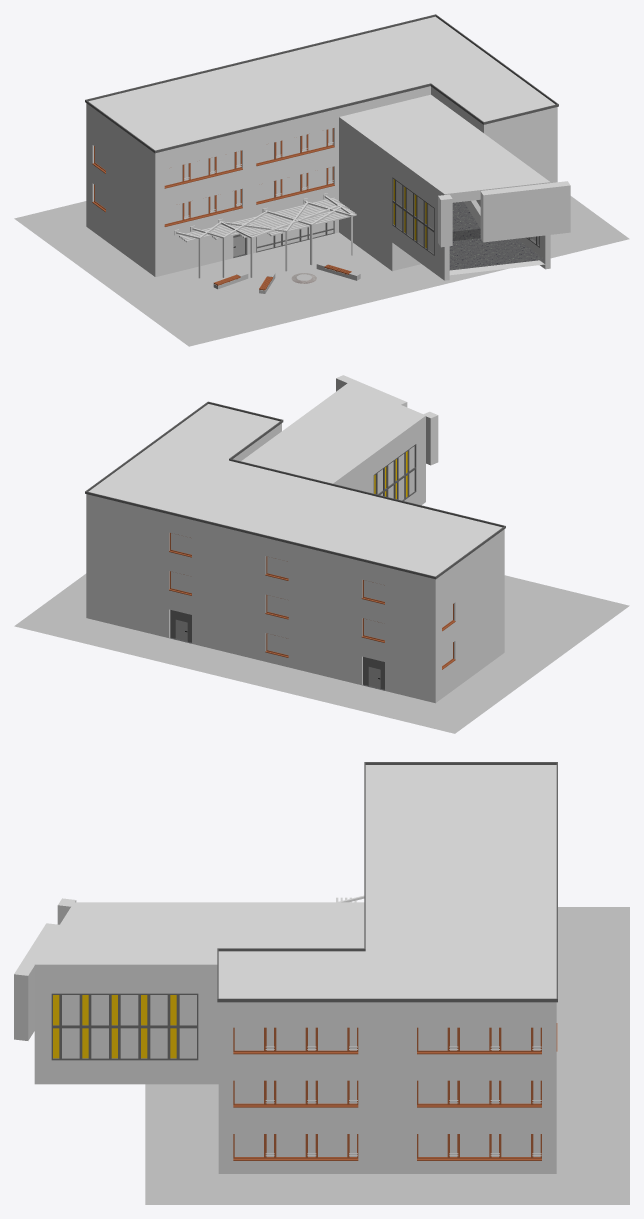
File: NeubauVersion2.fbx
The picture shows the model from 3 angles, top to bottom: view 1: azimuth 30°, elevation 25°; view 2: azimuth 150°, elevation 25°; view 3: azimuth 270°, elevation 25°; orthographic projection. The views are drawn at different scales.
Parts seen in each view (by area): view 1: Dach.001, Neubau.159, Boden.007, Dach2, Cube.224, Cube.235, Dach.002, Boden.004, WindowsBridge.160, Bridge, Cube.244; view 2: Neubau.159, Dach.001, Boden.007, Dach2, Dach.002, Cube.224, WindowsBridge.160; view 3: Dach.001, Neubau.159, Boden.007, Dach2, Dach.002, WindowsBridge.165, Cube.224, WindowsBridge.168, WindowsBridge.167, WindowsBridge.166, WindowsBridge.169, WindowsBridge.170 (+18 smaller).
Boxes of the visible parts, bbox=[...] form: Dach.001: bbox=[86, 16, 557, 171]; Neubau.159: bbox=[86, 94, 557, 280]; Boden.007: bbox=[14, 196, 629, 346]; Dach2: bbox=[344, 95, 545, 202]; Cube.224: bbox=[438, 181, 570, 247]; Cube.235: bbox=[174, 193, 356, 278]; Dach.002: bbox=[85, 14, 558, 153]; Boden.004: bbox=[449, 238, 544, 270]; WindowsBridge.160: bbox=[392, 177, 434, 255]; Bridge: bbox=[452, 201, 480, 241]; Cube.244: bbox=[257, 221, 333, 251]; Neubau.159: bbox=[86, 382, 504, 703]; Dach.001: bbox=[86, 404, 504, 597]; Boden.007: bbox=[14, 573, 629, 733]; Dach2: bbox=[246, 384, 421, 482]; Dach.002: bbox=[85, 401, 505, 579]; Cube.224: bbox=[336, 375, 438, 465]; WindowsBridge.160: bbox=[373, 444, 416, 500]; Dach.001: bbox=[218, 765, 556, 1027]; Neubau.159: bbox=[34, 902, 556, 1173]; Boden.007: bbox=[145, 907, 629, 1204]; Dach2: bbox=[37, 905, 364, 961]; Dach.002: bbox=[217, 762, 557, 1002]; WindowsBridge.165: bbox=[51, 993, 198, 1060]; Cube.224: bbox=[14, 898, 76, 1040]; WindowsBridge.168: bbox=[111, 995, 138, 1058]; WindowsBridge.167: bbox=[82, 995, 108, 1058]; WindowsBridge.166: bbox=[53, 995, 79, 1058]; WindowsBridge.169: bbox=[141, 995, 167, 1058]; WindowsBridge.170: bbox=[170, 995, 196, 1058].
Bounding box in the file's own units: 4800 × 1368 × 4195.
